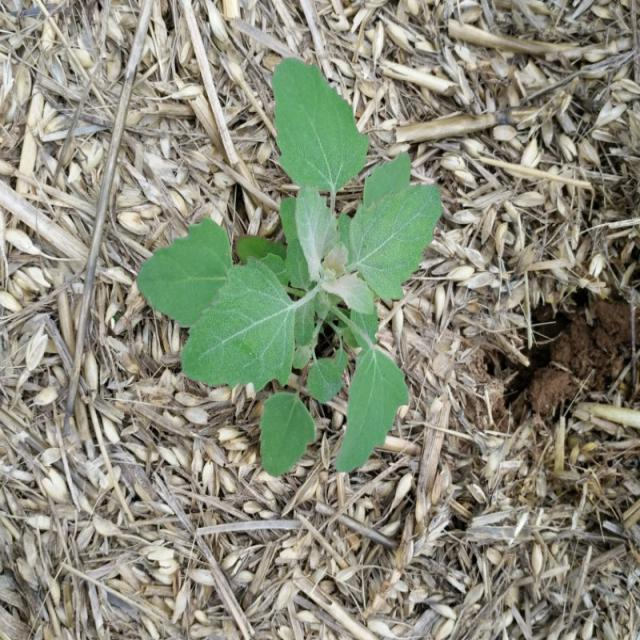goosefoots: (137, 50, 455, 471)
